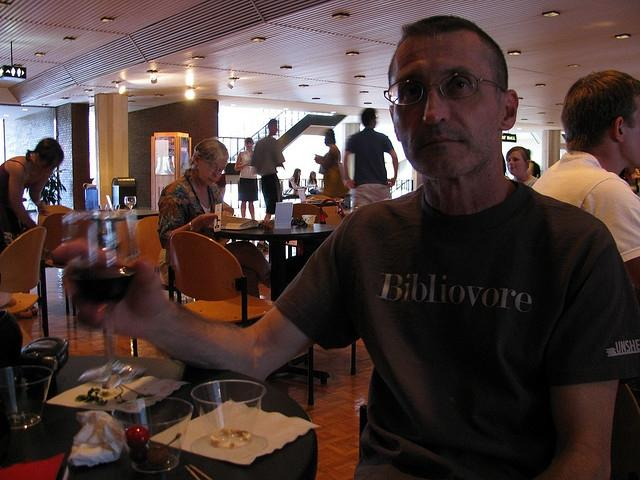cherry: (148, 434, 182, 464), (128, 446, 148, 464)
